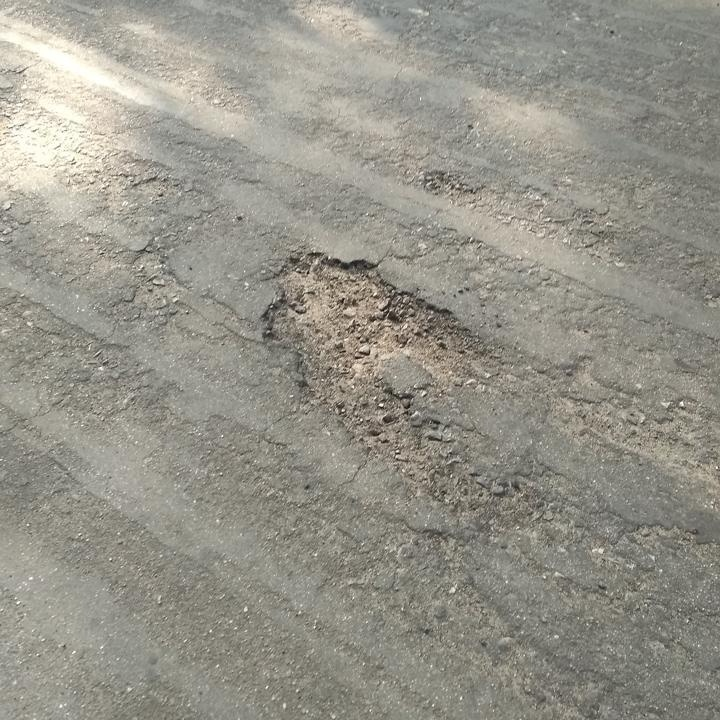pothole: (254, 243, 498, 488)
